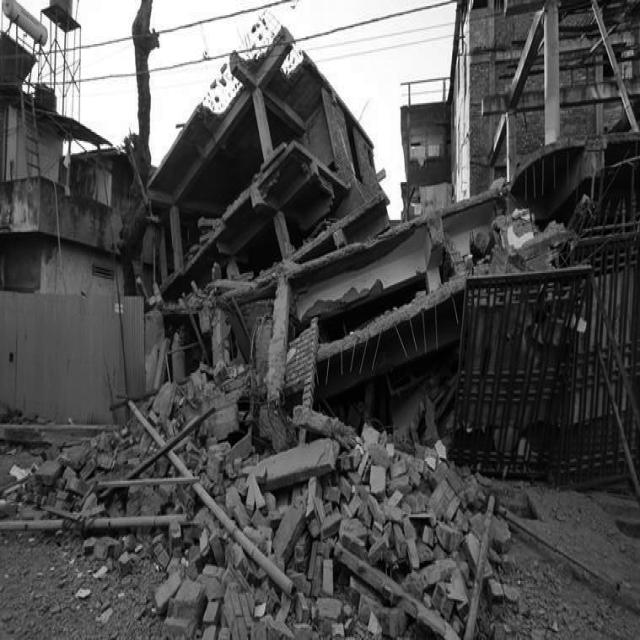Severely_Damaged: (122, 13, 630, 640)
